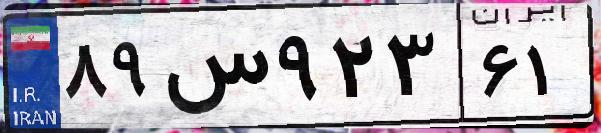1: (525, 38, 570, 115)
2: (330, 28, 385, 110)
3: (385, 28, 445, 110)
6: (475, 38, 525, 113)
8: (57, 26, 110, 100)
9: (270, 28, 330, 110), (110, 28, 158, 98)
س: (158, 20, 270, 120)
